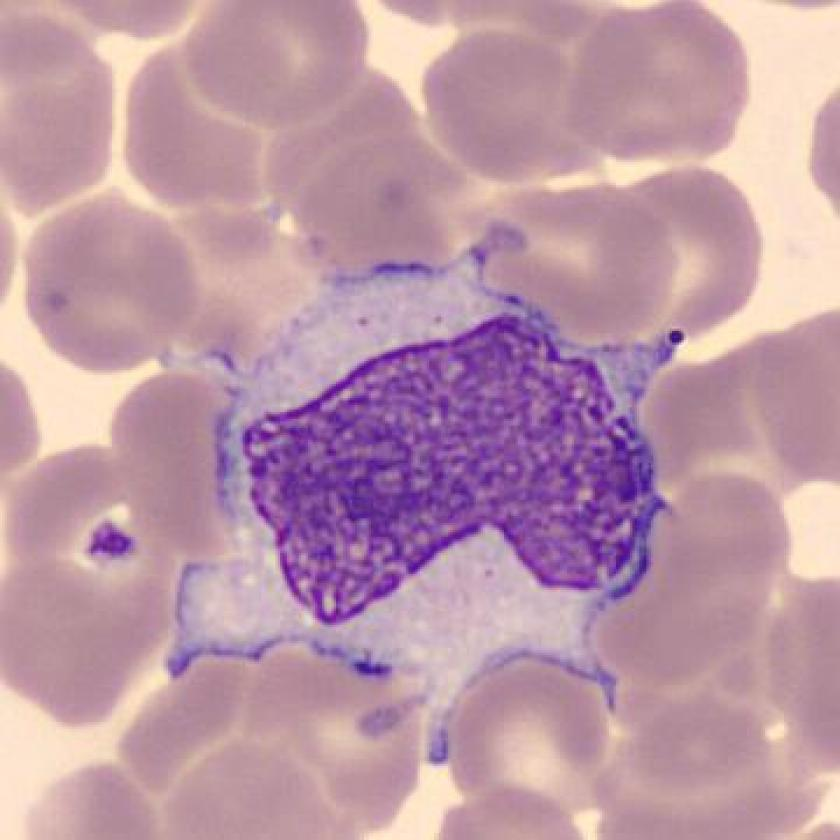monocyte: (146, 219, 713, 783)
